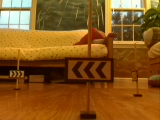left: (66, 58, 112, 81)
right: (9, 70, 25, 78)
